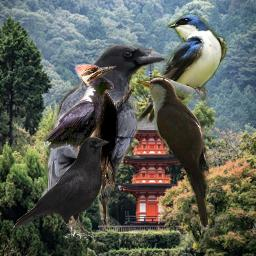Crow: (38, 44, 168, 228), (13, 135, 110, 241), (40, 74, 114, 157)
Cuckoo: (136, 76, 213, 231)
Swallow: (137, 13, 227, 123)
Woodpecker: (75, 64, 134, 196)
